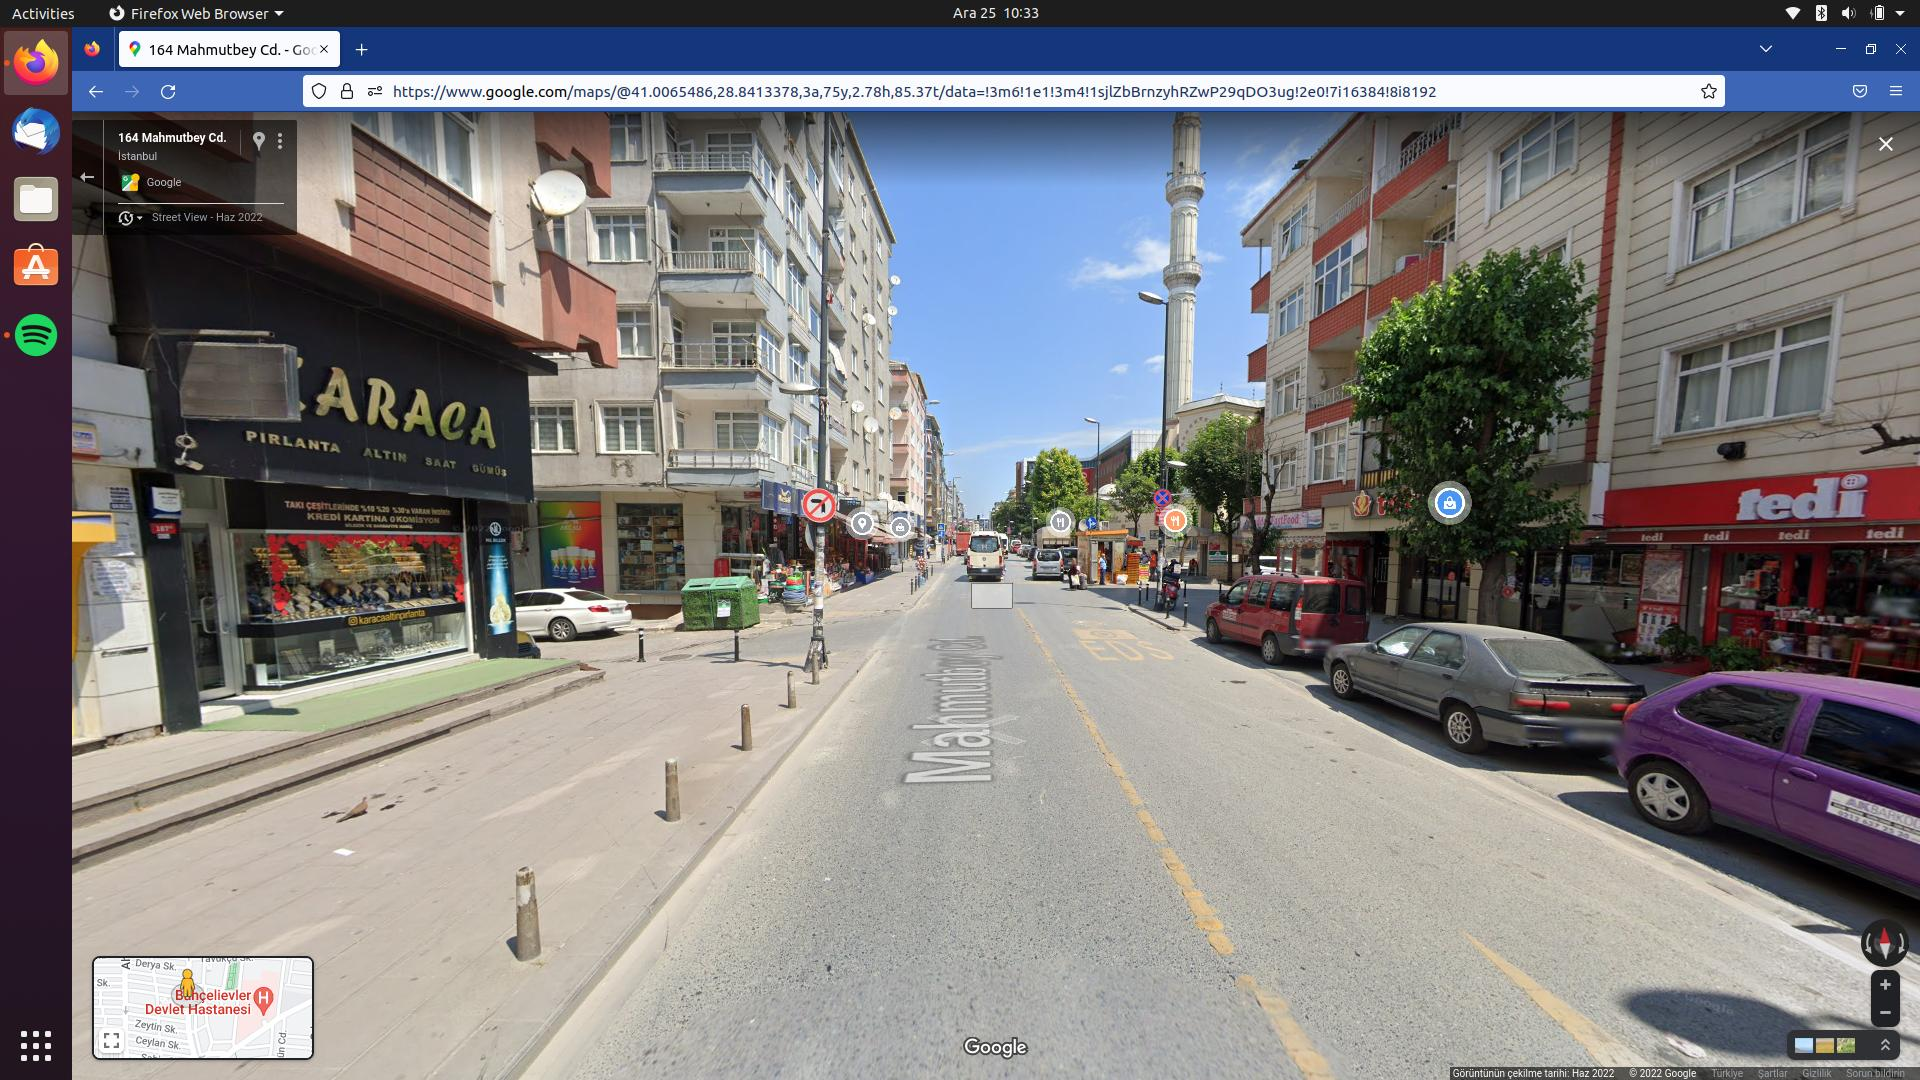leftturnsareforbidden: (800, 488, 836, 521)
